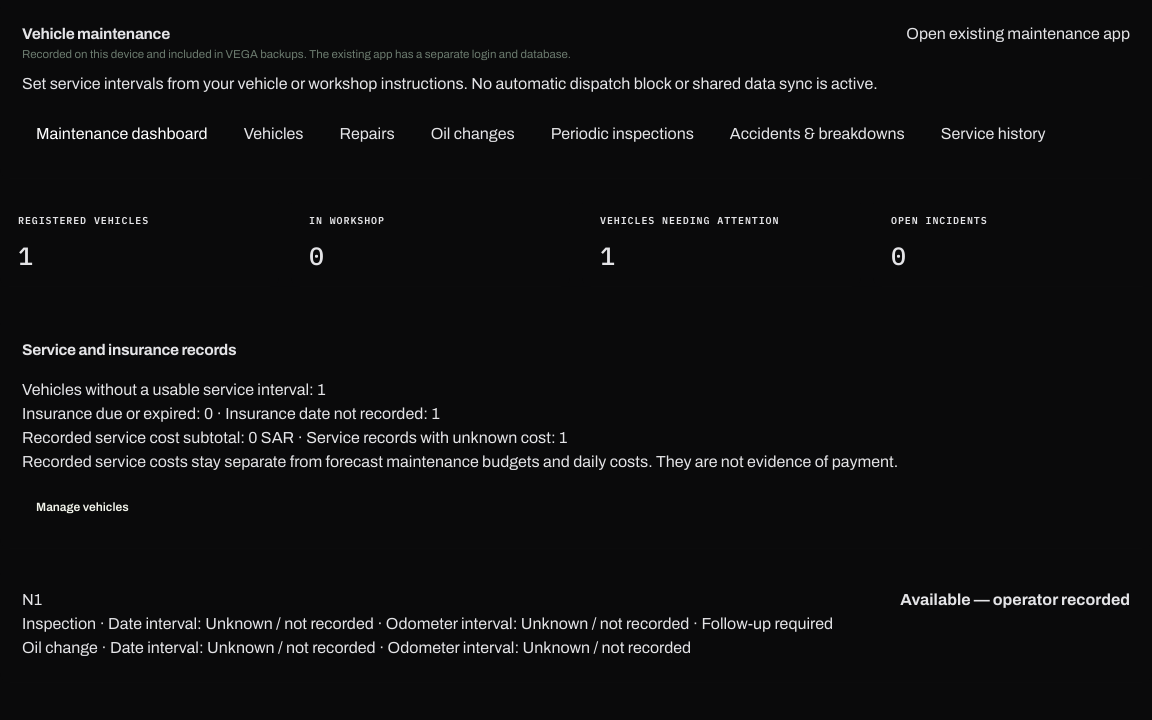
Test case: maintenance expansion › shows inspection evidence in filtered history and keeps unrelated services out of the selection
Click the button "Service history". click: point(993, 134)
box: [927,112,1060,156]
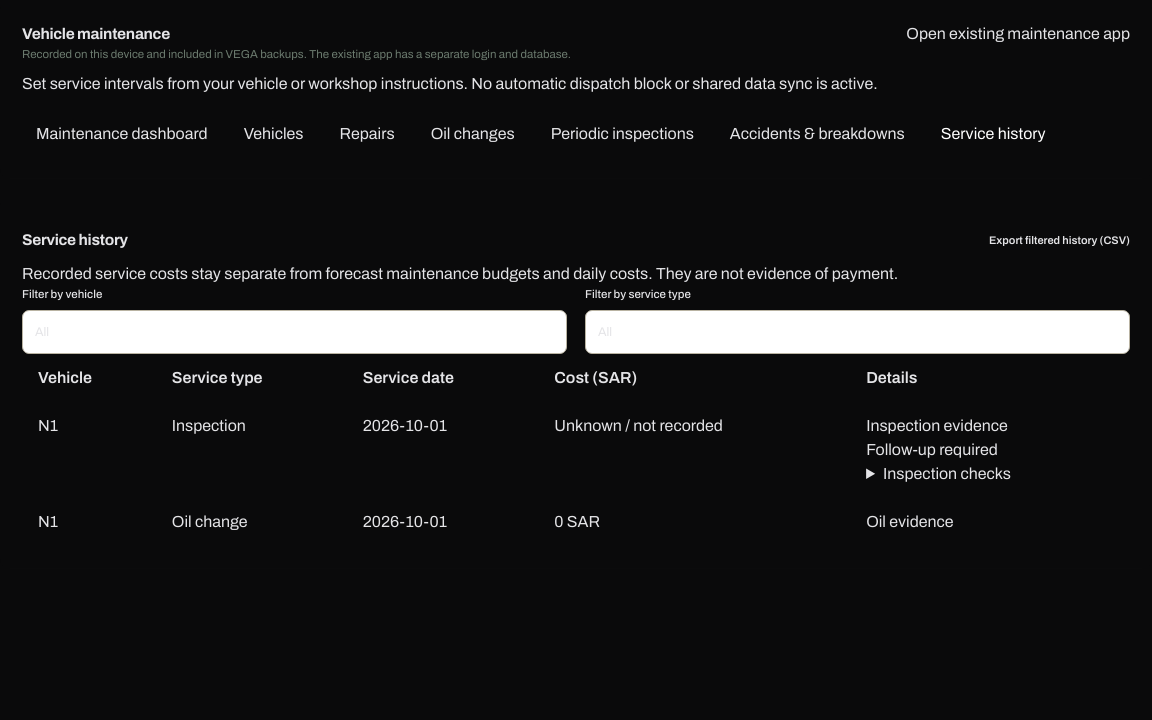
Select "Inspection" in the dropdown labelled "Filter by service type". click: point(858, 332)
box: [585,310,1130,354]
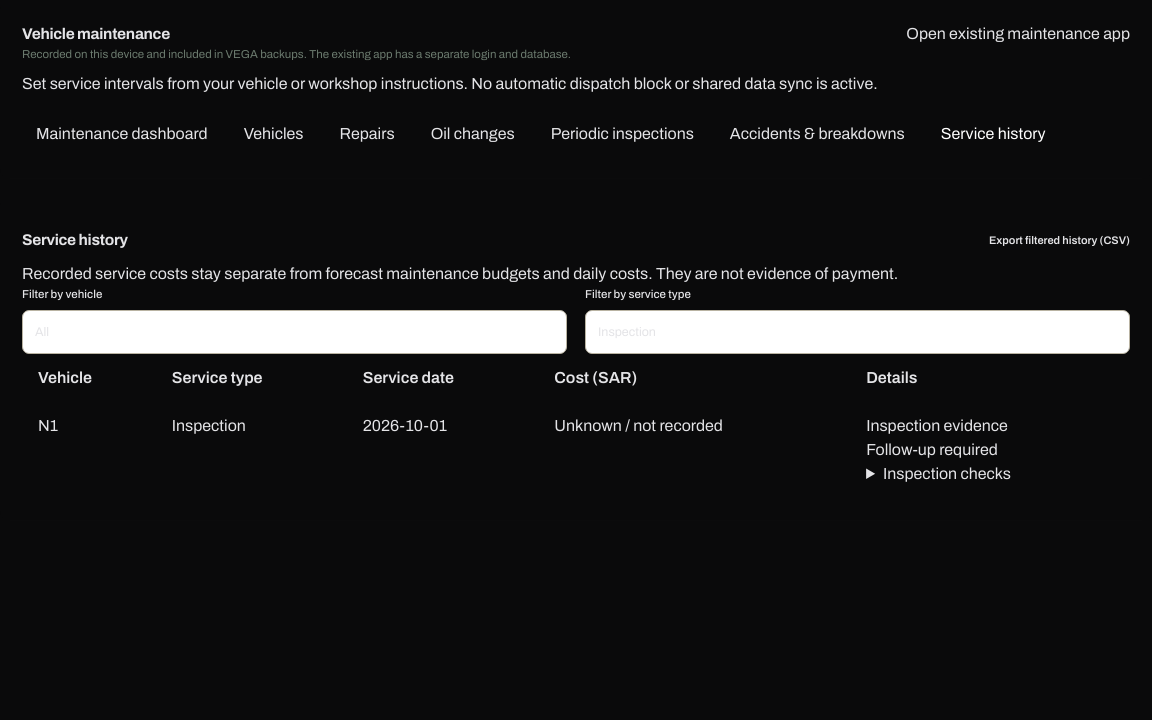
Result: the text "Inspection evidence" is shown at [866,417,1008,434]
Result: the text "Oil evidence" is gone
Click the heading "Inspection checks". click: point(947, 474)
box: [883,465,1011,482]
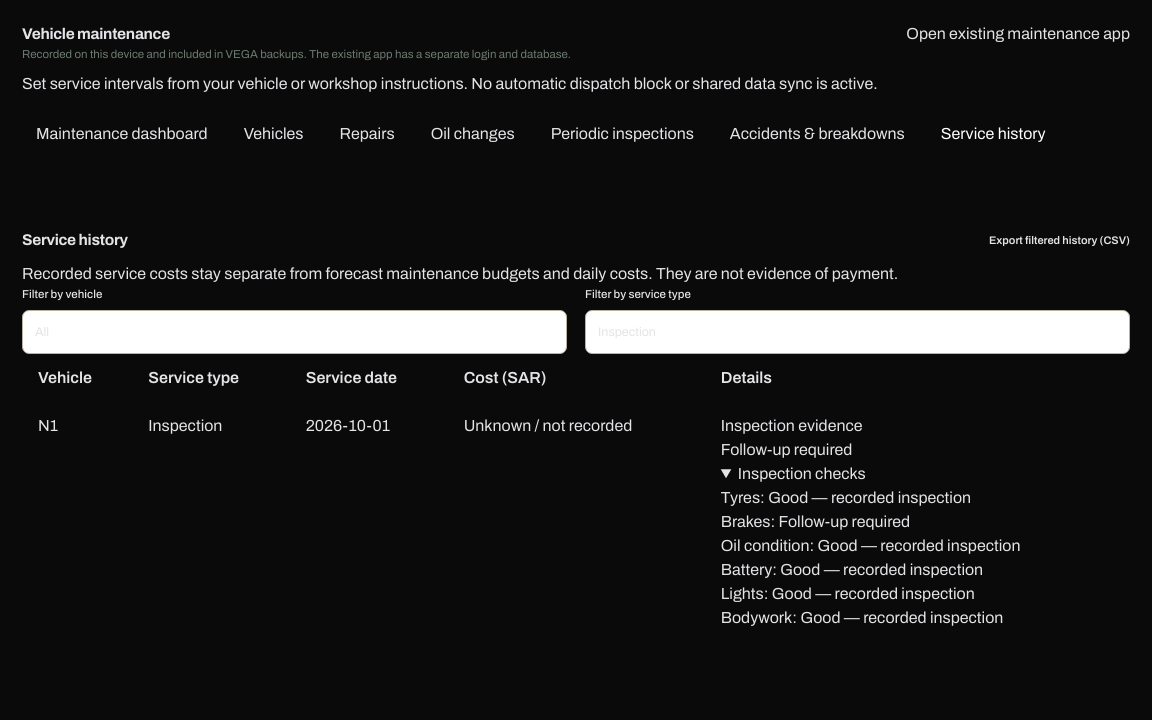
Result: the text "Brakes: Follow-up required" is shown at [721,513,910,530]
